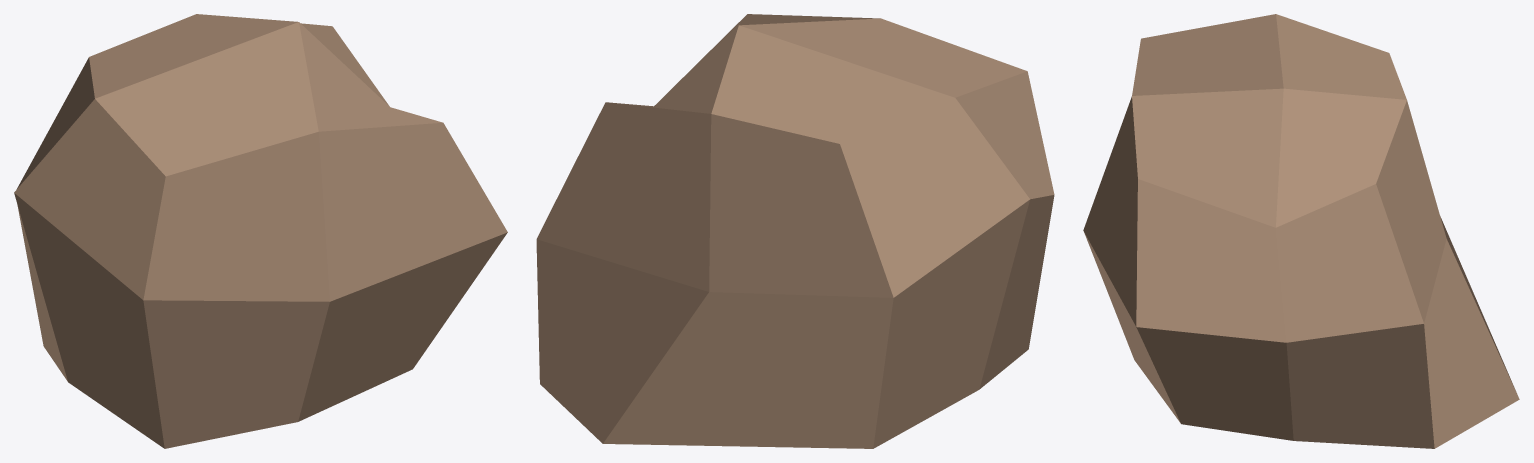
File: a_z2_rock_m.fbx
The picture shows the model from 3 angles, left to right: view 1: azimuth 30°, elevation 25°; view 2: azimuth 150°, elevation 25°; view 3: azimuth 270°, elevation 25°; orthographic projection. The views are drawn at different scales.
Parts seen in each view (by area): view 1: a_z2_rock_m; view 2: a_z2_rock_m; view 3: a_z2_rock_m.
Boxes of the visible parts, x1,y1,x2,y2 form: a_z2_rock_m: (14, 14, 507, 448); a_z2_rock_m: (536, 14, 1054, 448); a_z2_rock_m: (1083, 14, 1519, 448).
Bounding box in the file's own units: 223 × 163 × 199.
